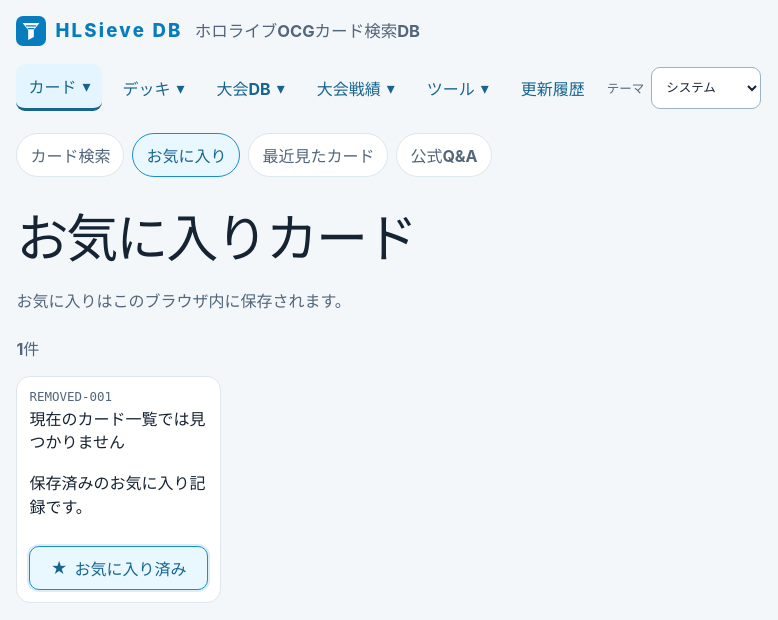
FavoriteCardsPage › keeps unknown records visible and removable
Expected: the heading "現在のカード一覧では見つかりません" is shown, [29,408,208,454]
Expected: the text "REMOVED-001" is shown, [29,389,112,404]
Click the button with aria-label "REMOVED-001をお気に入りから削除" at x=119, y=568, box [29,546,208,590]
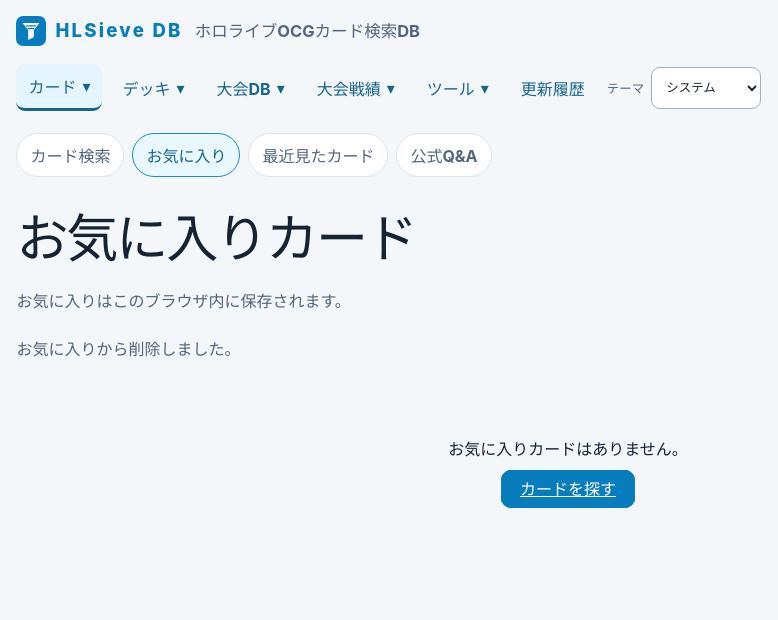
Result: the text "お気に入りカードはありません。" is shown at [448,439,688,459]
